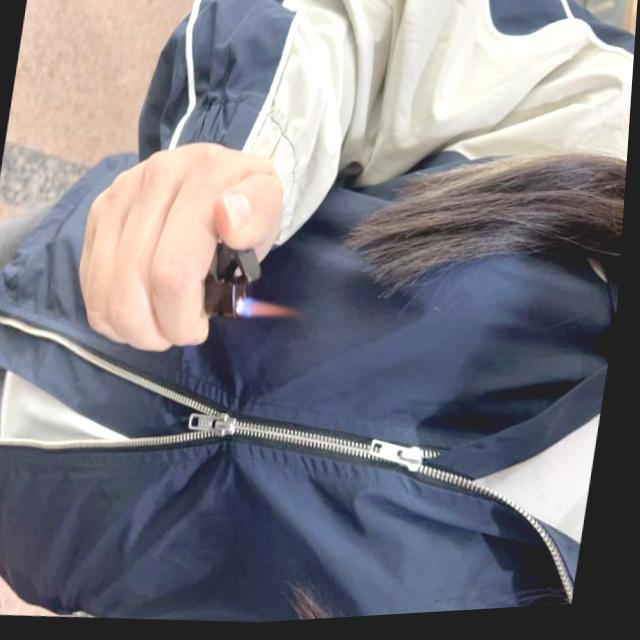Fire: (237, 295, 302, 322)
